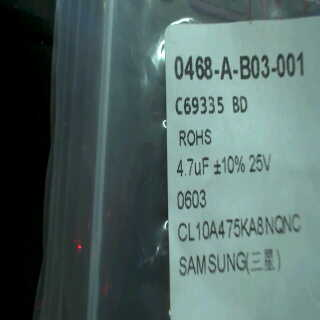4.7uF: (172, 155, 213, 181)
